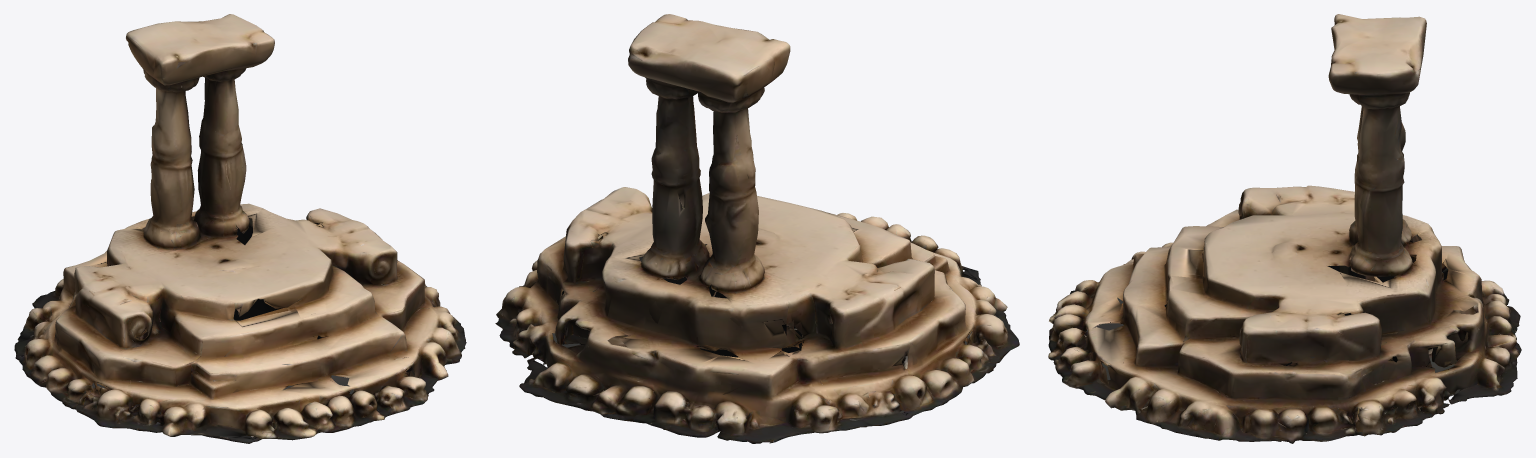
Rendered from sacrificial_altar.glb.
3 views of the same model, side by side, from view 1: azimuth 30°, elevation 25°; view 2: azimuth 150°, elevation 25°; view 3: azimuth 270°, elevation 25° (orthographic). The views are drawn at different scales.
Parts seen in each view (by area): view 1: Mesh1.0; view 2: Mesh1.0; view 3: Mesh1.0.
Boxes of the visible parts, <box> form: Mesh1.0: <box>14,14,466,443</box>; Mesh1.0: <box>495,14,1019,443</box>; Mesh1.0: <box>1048,14,1521,443</box>.
Bounding box in the file's own units: 2 × 1.43 × 2.
Materials: 1 (1 with a texture image).
